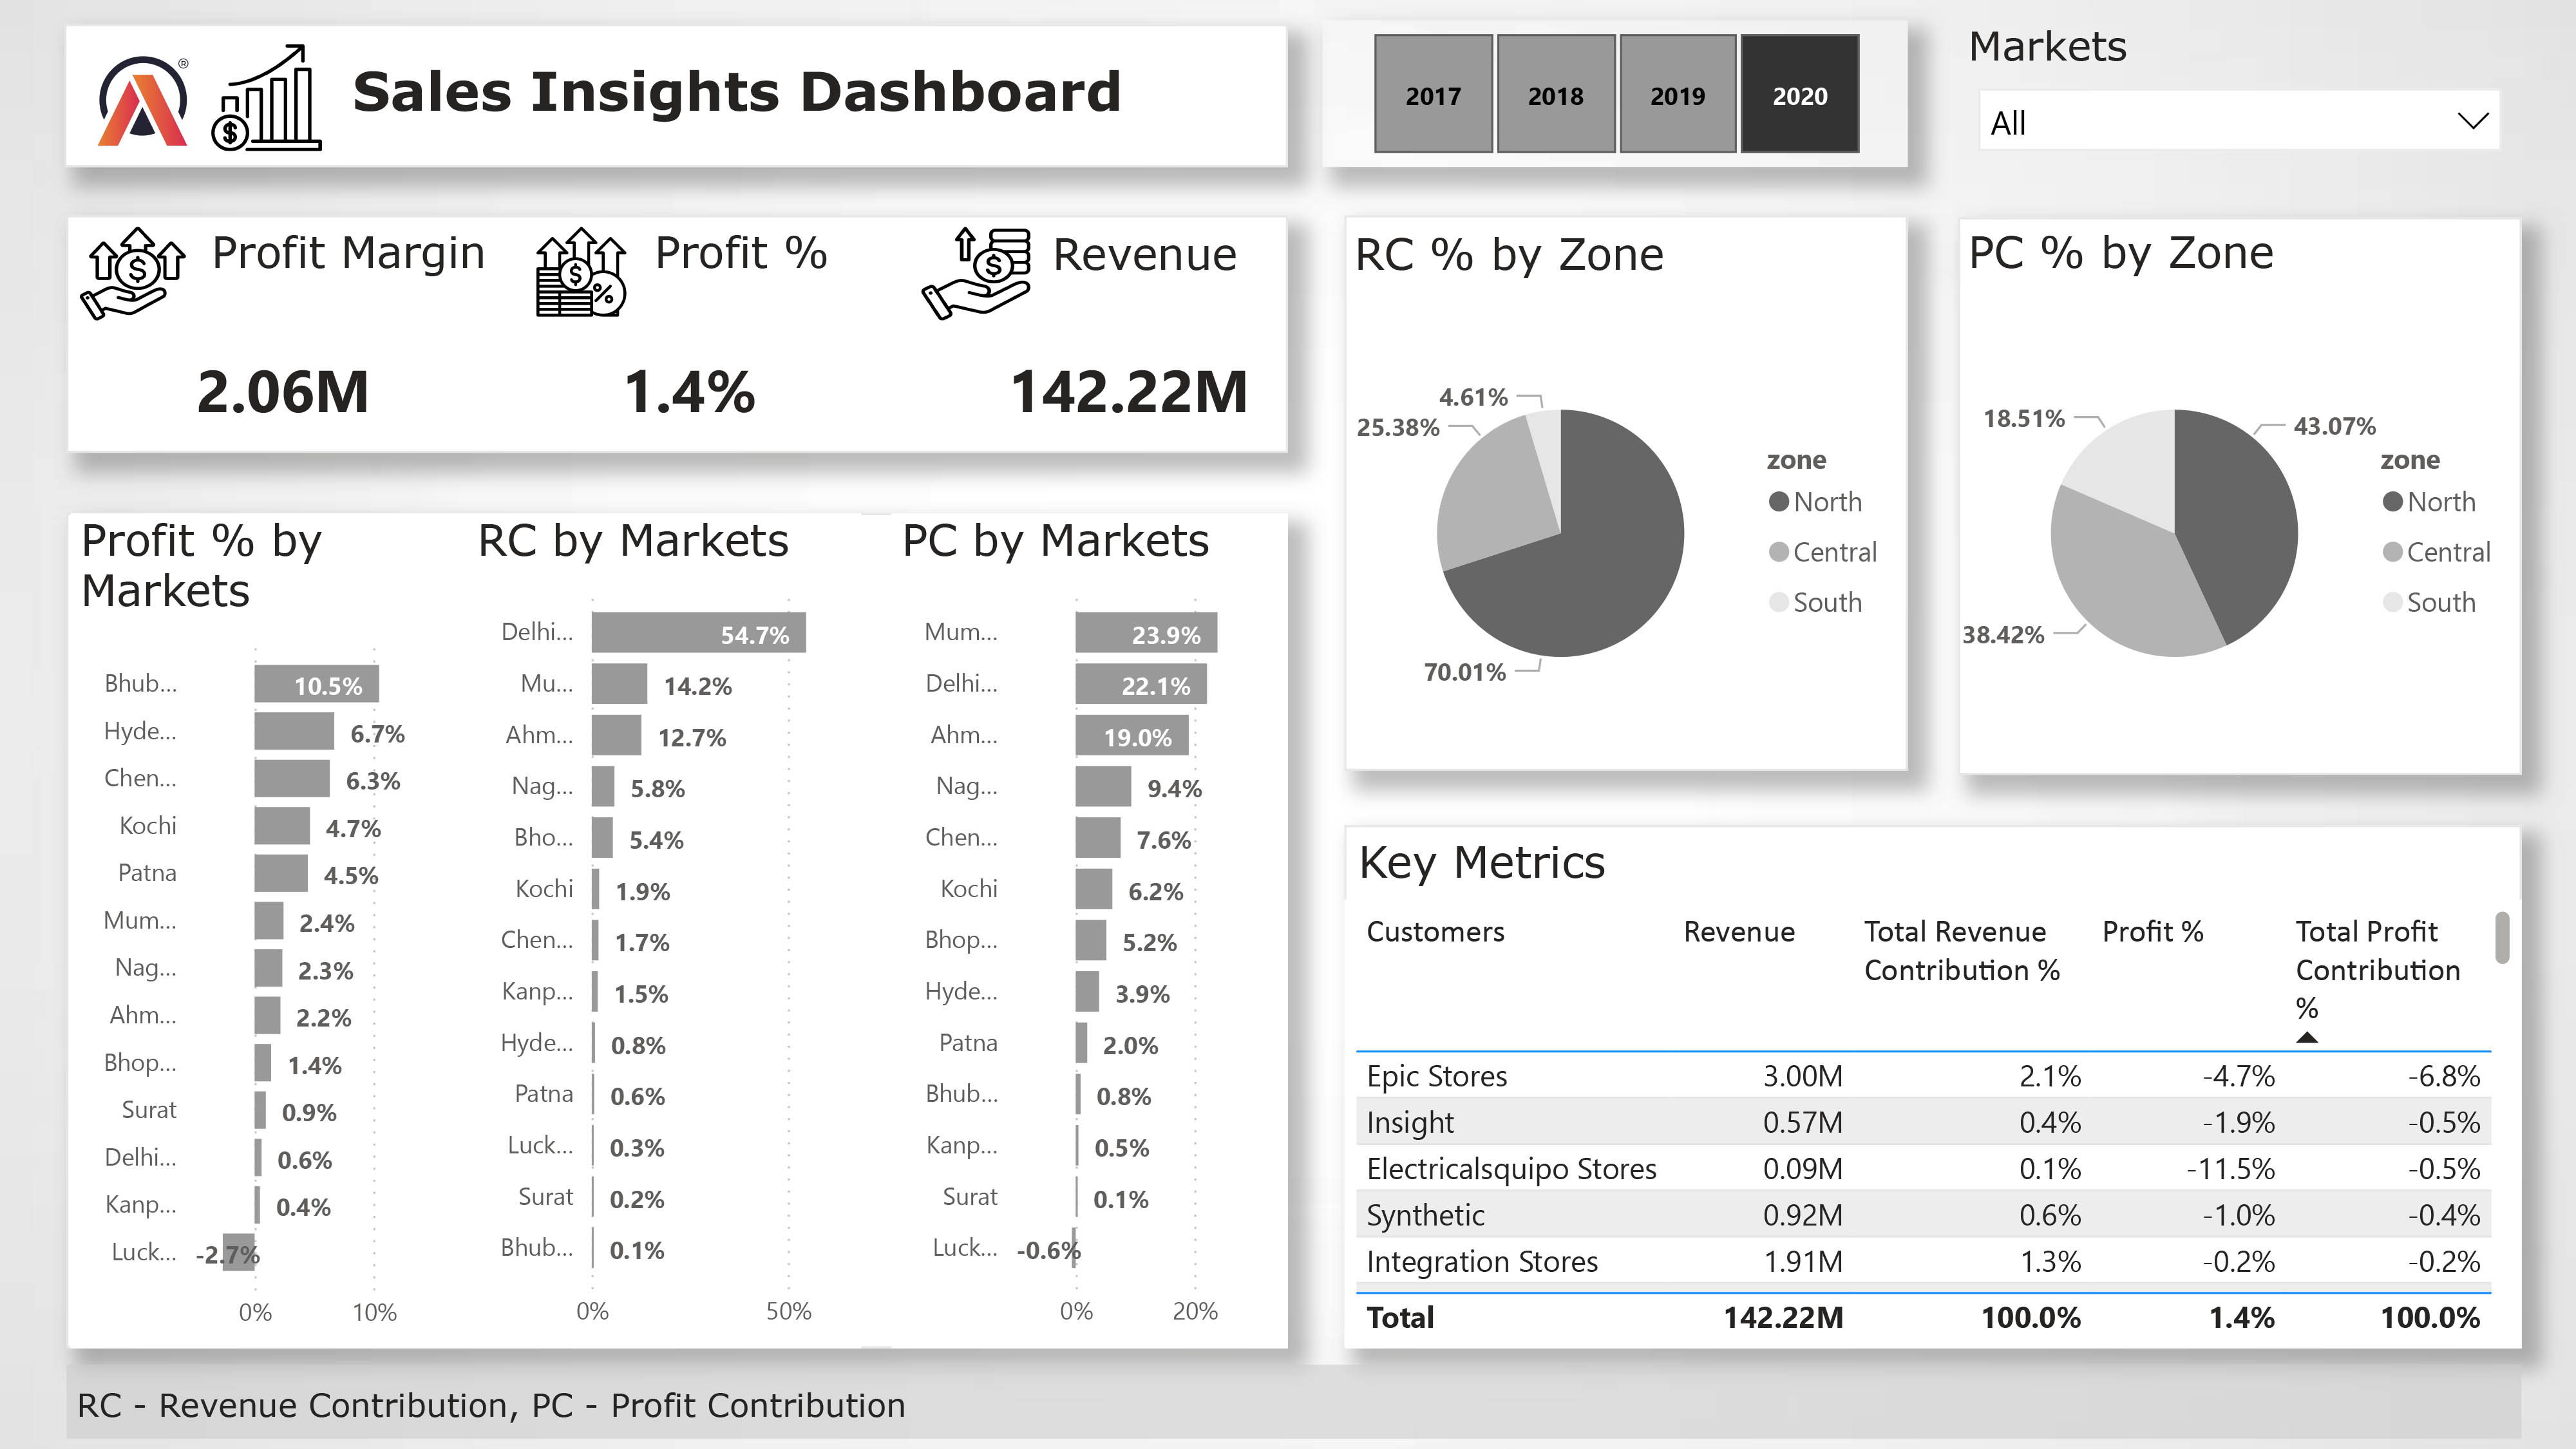

The dashboard page shown, as its layout file describes it:
{"tool":"powerbi","page":{"name":"Page 2","canvas":[1280,720],"ordinal":1},"visuals":[{"type":"shape","box":[973.3,108.3,280,276.7],"z":0},{"type":"shape","box":[668.3,106.7,280,276.7],"z":1000},{"type":"shape","box":[33.3,255,606.7,415],"z":2000},{"type":"shape","box":[33.3,106.7,606.7,118.3],"z":3000},{"type":"shape","box":[31.7,11.7,608.3,71.7],"z":4000},{"type":"card","title":"Revenue","fields":{"Values":["Report Measures.Total Profit Margin"]},"box":[70,164.9,141.7,58.3],"z":5000},{"type":"textbox","box":[100,106.7,158.3,71.7],"z":6000},{"type":"textbox","box":[320,106.7,108.3,48.3],"z":7000},{"type":"card","title":"Revenue","fields":{"Values":["Report Measures.Profit %"]},"box":[288.3,164.9,108.3,58.3],"z":8000},{"type":"barChart","fields":{"Category":["sales markets.markets_name"],"Y":["Report Measures.Profit %"]},"box":[35,255,196.7,415],"z":9000},{"type":"barChart","fields":{"Category":["sales markets.markets_name"],"Y":["Report Measures.Total Revenue Contribution by Markets"]},"box":[231.7,255,196.7,415],"z":10000},{"type":"shape","box":[668.3,410,585,260],"z":11000},{"type":"tableEx","fields":{"Values":["sales customers.custmer_name","Report Measures.Revenue","Report Measures.Total Revenue Contribution by Markets","Report Measures.Profit %","Report Measures.Total Profit Contribution by Markets"]},"box":[668.3,446.7,585,223.3],"z":12000},{"type":"textbox","box":[670,410,291.7,48.3],"z":13000},{"type":"pieChart","fields":{"Y":["Report Measures.Total Revenue Contribution by Markets"],"Category":["sales markets.zone"]},"box":[668.3,143.3,280,243.3],"z":14000},{"type":"textbox","box":[668.3,108.3,280,48.3],"z":15000},{"type":"textbox","box":[973.3,106.7,280,48.3],"z":16000},{"type":"slicer","fields":{"Values":["sales date.year"]},"box":[656.7,10,291.7,73.3],"z":17000},{"type":"slicer","title":"Markets","fields":{"Values":["sales markets.markets_name"]},"box":[973.3,10,280,73.3],"z":18000},{"type":"image","box":[34.4,106.7,63.8,58.8],"z":19000},{"type":"image","box":[260,106.7,58.3,56.7],"z":20000},{"type":"pieChart","fields":{"Category":["sales markets.zone"],"Y":["Report Measures.Total Profit Contribution by Markets"]},"box":[973.3,143.3,280,243.3],"z":21000},{"type":"barChart","fields":{"Category":["sales markets.markets_name"],"Y":["Report Measures.Total Profit Contribution by Markets"]},"box":[443.3,255,196.7,415],"z":22000},{"type":"textbox","box":[518.3,108.4,113.3,48.3],"z":23000},{"type":"image","box":[451.7,106.7,66.7,58.3],"z":24000},{"type":"card","title":"Revenue","fields":{"Values":["Report Measures.Revenue"]},"box":[490,164.9,141.7,58.3],"z":25000},{"type":"textbox","box":[170,23.3,406.7,50],"z":26000},{"type":"image","box":[100,16.7,65,63.3],"z":27000},{"type":"image","box":[43.3,20,56.7,60],"z":28000},{"type":"shape","box":[33.3,678.3,1220,36.7],"z":29000},{"type":"textbox","box":[33.3,683.3,708.3,36.7],"z":30000}]}

Visuals, with their boxes in screenshot pixels (x1, y1, x2, y2), scaled from the page's 1280x720 canvas onto the 2576x1449 screenshot:
shape: {"left": 1959, "top": 218, "right": 2523, "bottom": 775}
shape: {"left": 1345, "top": 214, "right": 1908, "bottom": 772}
shape: {"left": 67, "top": 513, "right": 1288, "bottom": 1349}
shape: {"left": 67, "top": 214, "right": 1288, "bottom": 453}
shape: {"left": 64, "top": 24, "right": 1288, "bottom": 168}
"Revenue" card: {"left": 141, "top": 332, "right": 426, "bottom": 450}
textbox: {"left": 201, "top": 214, "right": 520, "bottom": 359}
textbox: {"left": 644, "top": 214, "right": 862, "bottom": 312}
"Revenue" card: {"left": 580, "top": 332, "right": 798, "bottom": 450}
barChart - sales markets.markets_name x Report Measures.Profit %: {"left": 70, "top": 513, "right": 466, "bottom": 1349}
barChart - sales markets.markets_name x Report Measures.Total Revenue Contribution by Markets: {"left": 466, "top": 513, "right": 862, "bottom": 1349}
shape: {"left": 1345, "top": 825, "right": 2523, "bottom": 1349}
tableEx - sales customers.custmer_name x Report Measures.Revenue: {"left": 1345, "top": 899, "right": 2523, "bottom": 1349}
textbox: {"left": 1349, "top": 825, "right": 1935, "bottom": 922}
pieChart - Report Measures.Total Revenue Contribution by Markets x sales markets.zone: {"left": 1345, "top": 289, "right": 1908, "bottom": 778}
textbox: {"left": 1345, "top": 218, "right": 1908, "bottom": 315}
textbox: {"left": 1959, "top": 214, "right": 2523, "bottom": 312}
slicer - sales date.year: {"left": 1321, "top": 20, "right": 1909, "bottom": 167}
"Markets" slicer: {"left": 1959, "top": 20, "right": 2523, "bottom": 167}
image: {"left": 70, "top": 214, "right": 198, "bottom": 333}
image: {"left": 523, "top": 214, "right": 641, "bottom": 329}
pieChart - sales markets.zone x Report Measures.Total Profit Contribution by Markets: {"left": 1959, "top": 289, "right": 2523, "bottom": 778}
barChart - sales markets.markets_name x Report Measures.Total Profit Contribution by Markets: {"left": 892, "top": 513, "right": 1288, "bottom": 1349}
textbox: {"left": 1043, "top": 218, "right": 1271, "bottom": 316}
image: {"left": 909, "top": 214, "right": 1043, "bottom": 332}
"Revenue" card: {"left": 986, "top": 332, "right": 1271, "bottom": 450}
textbox: {"left": 342, "top": 47, "right": 1160, "bottom": 147}
image: {"left": 201, "top": 33, "right": 332, "bottom": 161}
image: {"left": 87, "top": 40, "right": 201, "bottom": 161}
shape: {"left": 67, "top": 1365, "right": 2523, "bottom": 1439}
textbox: {"left": 67, "top": 1375, "right": 1492, "bottom": 1448}
